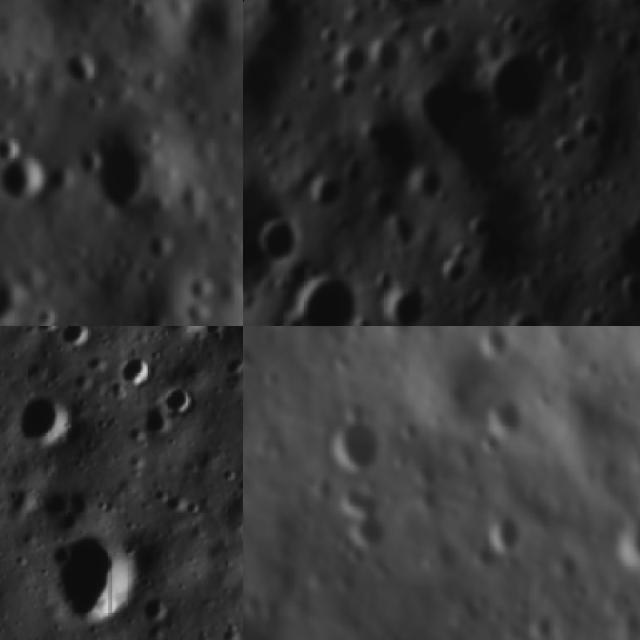crater: (403, 76, 512, 188), (78, 115, 177, 227), (41, 532, 148, 632), (243, 164, 300, 319), (483, 37, 562, 124), (336, 481, 400, 561), (322, 407, 394, 478), (283, 272, 374, 326), (0, 144, 60, 221), (15, 390, 80, 452), (38, 487, 100, 538), (52, 42, 106, 98), (258, 212, 301, 271), (488, 507, 528, 563), (380, 284, 429, 326), (614, 498, 640, 575), (487, 397, 532, 441), (549, 51, 595, 94), (140, 227, 181, 271), (406, 162, 447, 204), (72, 142, 112, 185), (528, 33, 567, 71), (134, 402, 175, 438), (181, 270, 219, 308), (116, 352, 156, 388), (159, 381, 204, 412), (474, 326, 515, 360), (308, 173, 344, 210), (491, 10, 530, 44), (571, 112, 607, 148), (380, 216, 421, 247), (176, 296, 218, 326), (0, 274, 33, 311), (334, 41, 368, 76), (438, 260, 475, 292), (329, 70, 363, 104), (55, 326, 97, 350), (418, 483, 446, 518), (160, 326, 214, 344), (0, 129, 26, 166), (399, 416, 428, 448), (501, 305, 543, 326), (396, 0, 456, 14), (576, 302, 610, 326), (312, 25, 346, 49), (531, 185, 562, 210), (594, 274, 622, 300), (531, 166, 557, 191), (470, 216, 492, 245), (558, 182, 580, 210), (371, 80, 397, 103), (369, 0, 406, 15), (36, 304, 61, 322), (271, 316, 312, 326), (368, 628, 402, 640), (35, 326, 64, 335)
